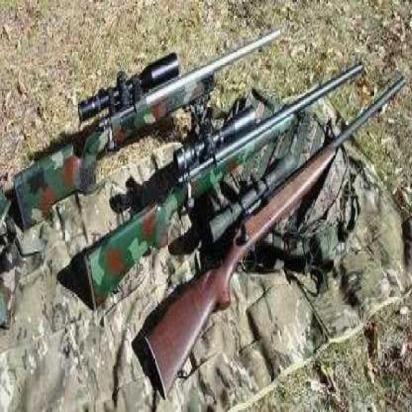Gun: (140, 73, 405, 390)
